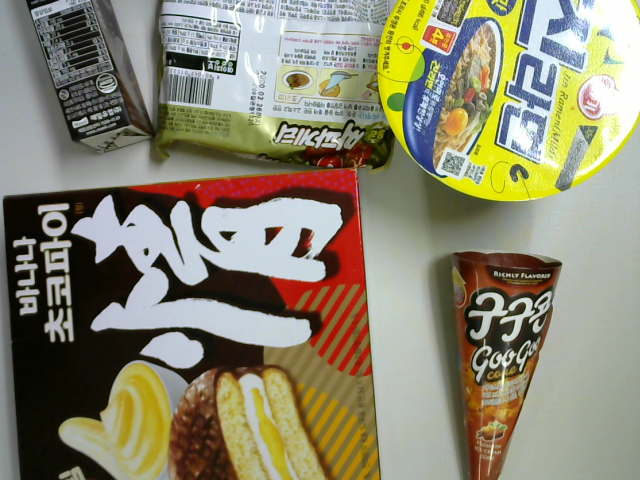Choco_Pie_Banana: (1, 166, 386, 480)
GooGoo_Cone_CVS: (450, 250, 567, 480)
Hush_Choco_Drink: (28, 1, 155, 155)
Jinlamyeon_Mild_Taste_Large_Cup: (373, 1, 640, 206)
Olive_Chapaghetti: (150, 1, 397, 171)
